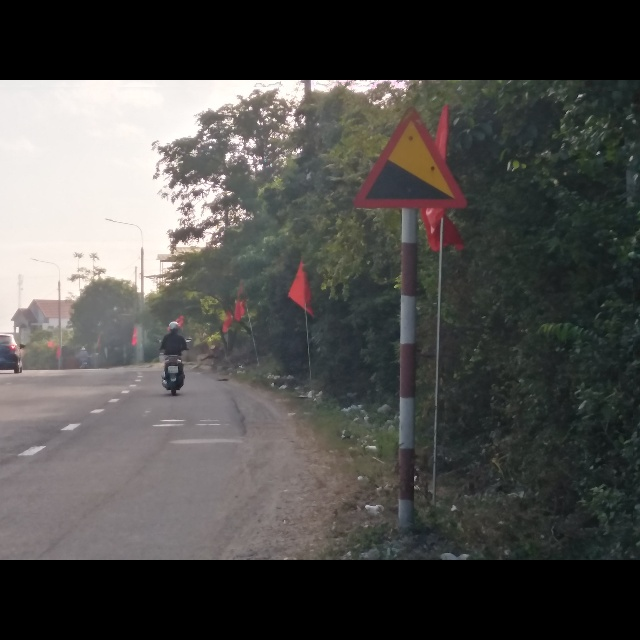Dốc lên nguy hiểm: (352, 105, 467, 209)
